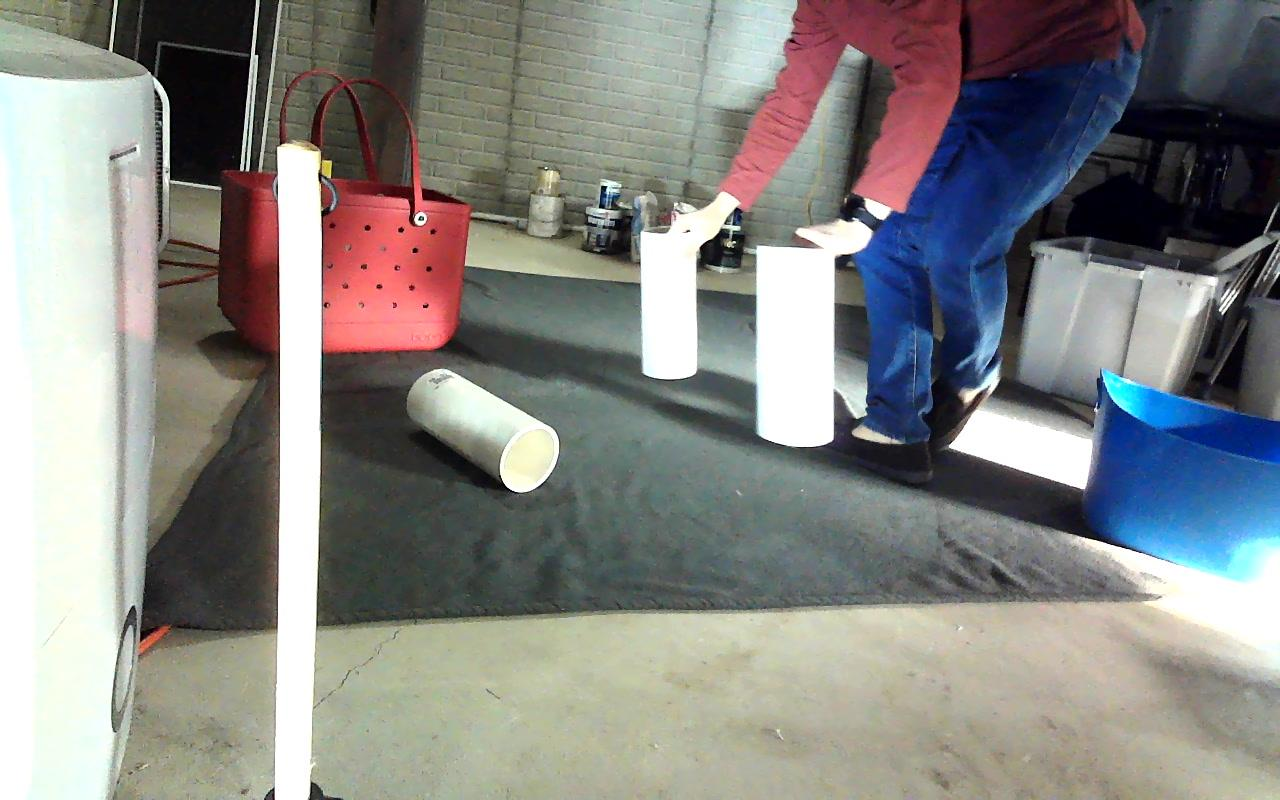coral: (405, 368, 558, 491), (753, 242, 836, 446), (639, 228, 699, 378)
